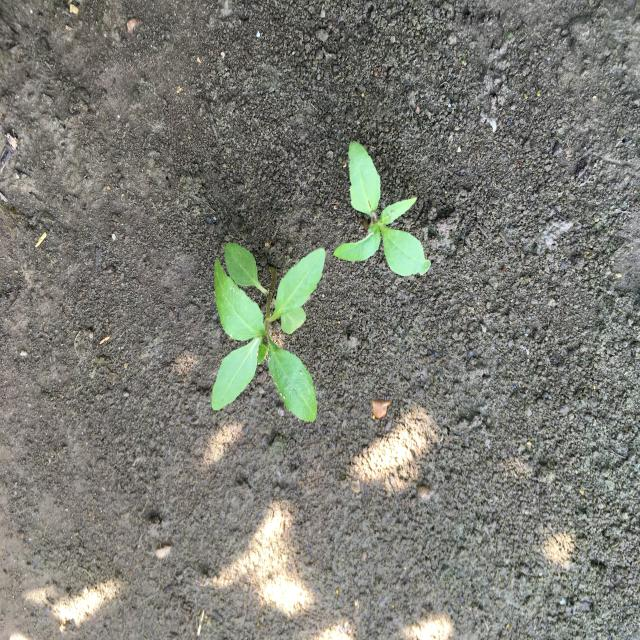Eclipta: (209, 239, 327, 424), (332, 139, 432, 279)
